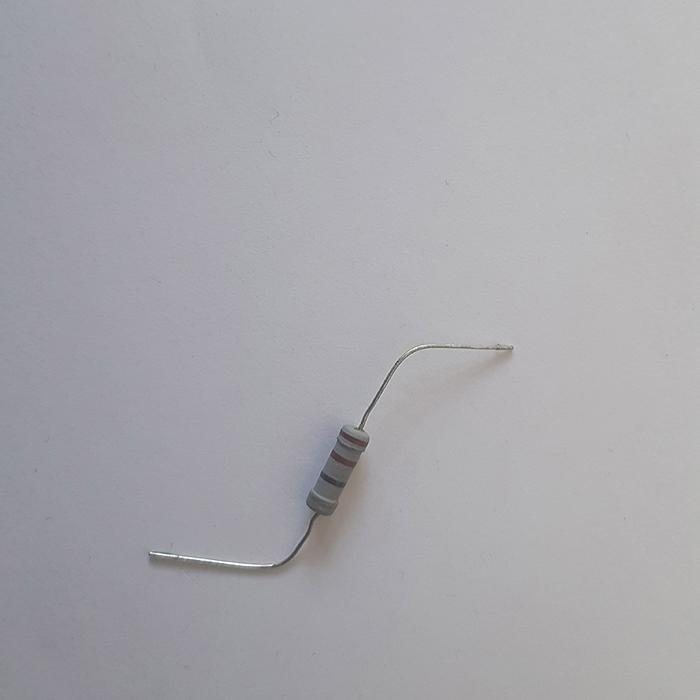resistor: (307, 422, 370, 516)
